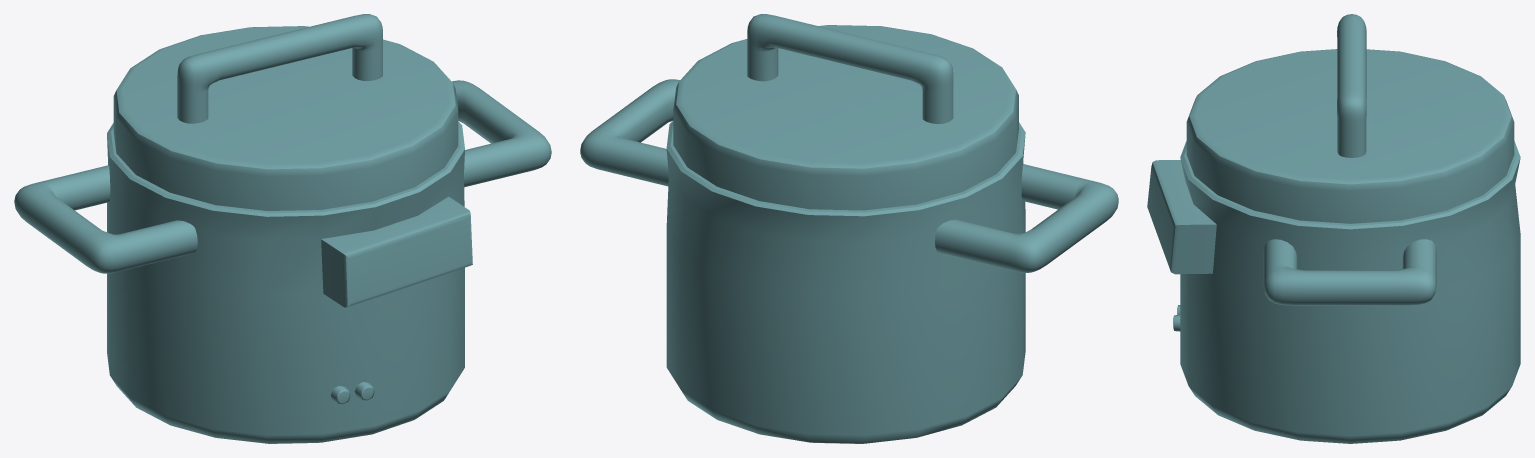
The model's file is SM_POT_IA.fbx.
3 views of the same model, side by side, from view 1: azimuth 30°, elevation 25°; view 2: azimuth 150°, elevation 25°; view 3: azimuth 270°, elevation 25° (orthographic). The views are drawn at different scales.
Visible parts, largest first — view 1: SM_POT_IA, SM_POT_TAP_IA; view 2: SM_POT_IA, SM_POT_TAP_IA; view 3: SM_POT_IA, SM_POT_TAP_IA.
Part boxes in pixels (box(x1,y1,x2,y2)): SM_POT_IA: box(14, 80, 551, 443); SM_POT_TAP_IA: box(113, 14, 458, 210); SM_POT_IA: box(580, 79, 1118, 443); SM_POT_TAP_IA: box(673, 14, 1018, 210); SM_POT_IA: box(1147, 141, 1520, 443); SM_POT_TAP_IA: box(1186, 14, 1514, 223).
Size of the model in its own units: 45.07 by 32.51 by 33.51.
